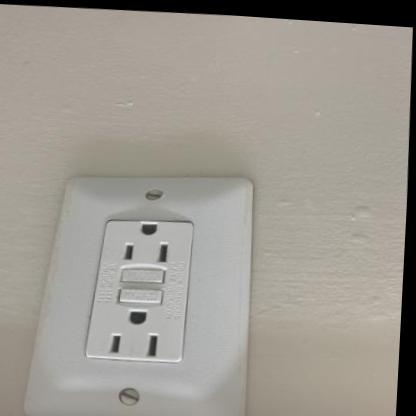OUTLET: (43, 168, 257, 416)
